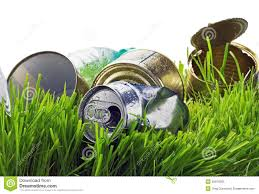can: (79, 83, 193, 147)
